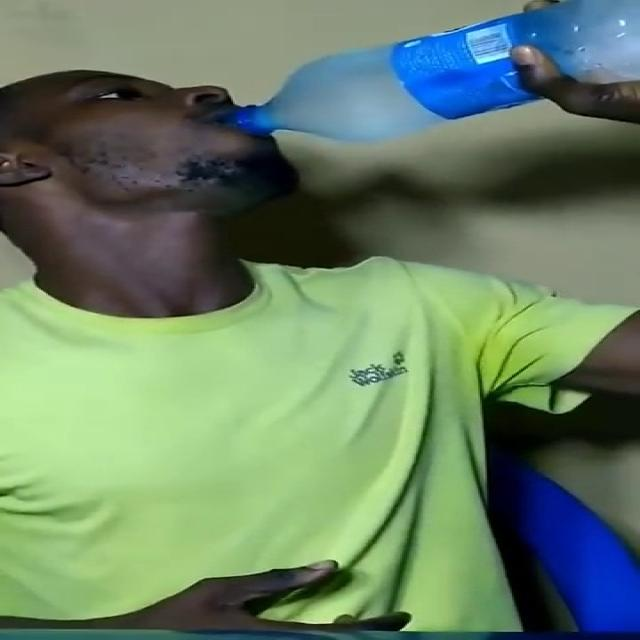Bottle: (237, 1, 638, 144)
Hand: (489, 0, 640, 125)
Mouth: (196, 107, 274, 145)
